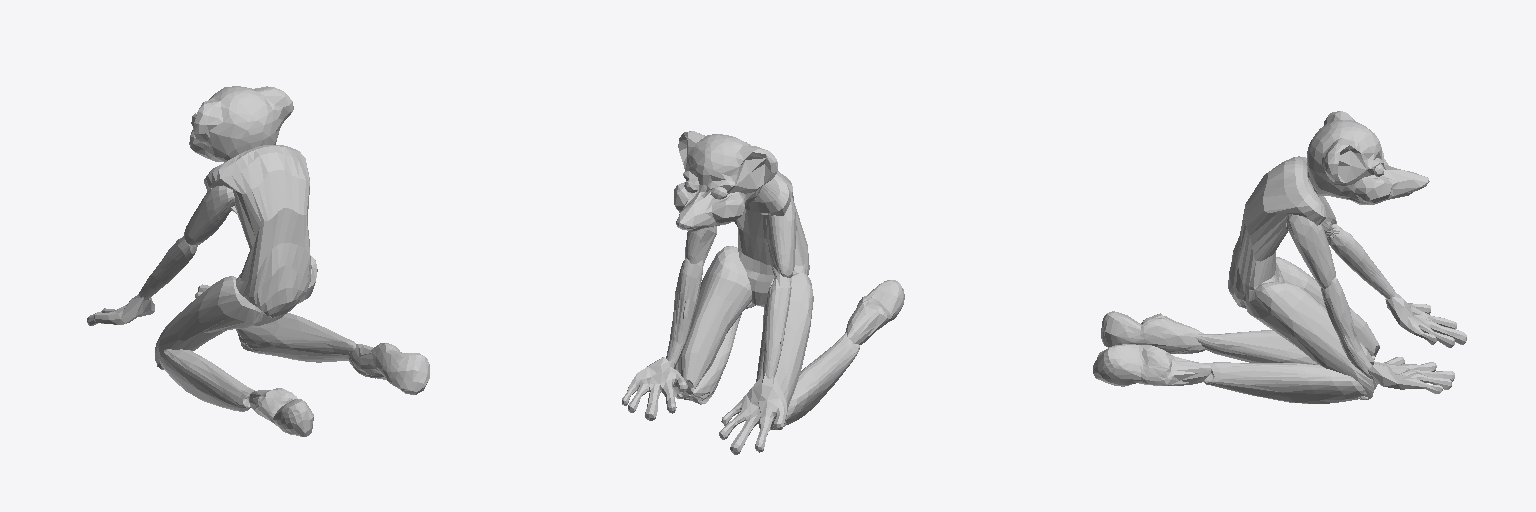
Rendered from rat1.obj.
3 renders of one model, left to right at view 1: azimuth 30°, elevation 25°; view 2: azimuth 150°, elevation 25°; view 3: azimuth 270°, elevation 25°, orthographic.
Parts seen in each view (by area): view 1: Torso_Sphere.007, shin_Sphere.015, Eyes_Sphere.003, feet_Sphere.018, Thigh_Sphere.009, Bicep_Sphere.004, Tricep_Sphere.005, Hand_Cube.001; view 2: Thigh_Sphere.009, Eyes_Sphere.003, Hand_Cube.001, Torso_Sphere.007, Tricep_Sphere.005, shin_Sphere.015, Bicep_Sphere.004, feet_Sphere.018; view 3: shin_Sphere.015, Thigh_Sphere.009, Torso_Sphere.007, Eyes_Sphere.003, feet_Sphere.018, Hand_Cube.001, Tricep_Sphere.005, Bicep_Sphere.004.
Boxes of the visible parts, <box> form: Torso_Sphere.007: <box>204,145,311,317</box>; shin_Sphere.015: <box>159,313,355,411</box>; Eyes_Sphere.003: <box>189,86,293,162</box>; feet_Sphere.018: <box>249,343,429,436</box>; Thigh_Sphere.009: <box>155,255,317,369</box>; Bicep_Sphere.004: <box>184,186,234,245</box>; Tricep_Sphere.005: <box>139,236,197,300</box>; Hand_Cube.001: <box>87,284,210,325</box>; Thigh_Sphere.009: <box>673,246,813,429</box>; Eyes_Sphere.003: <box>674,131,777,231</box>; Hand_Cube.001: <box>622,357,787,454</box>; Torso_Sphere.007: <box>734,171,809,306</box>; Tricep_Sphere.005: <box>666,258,791,378</box>; shin_Sphere.015: <box>677,314,859,430</box>; Bicep_Sphere.004: <box>685,197,795,277</box>; feet_Sphere.018: <box>746,280,904,344</box>; shin_Sphere.015: <box>1196,330,1374,403</box>; Thigh_Sphere.009: <box>1243,257,1379,399</box>; Torso_Sphere.007: <box>1228,156,1326,308</box>; Eyes_Sphere.003: <box>1307,111,1429,204</box>; feet_Sphere.018: <box>1093,311,1210,386</box>; Hand_Cube.001: <box>1368,291,1466,393</box>; Tricep_Sphere.005: <box>1321,224,1394,378</box>; Bicep_Sphere.004: <box>1287,196,1336,288</box>.
Size of the model in its own units: 6.87 by 10.27 by 12.57.